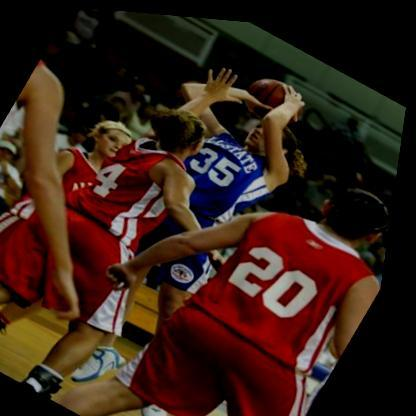basketball: (234, 63, 314, 131)
